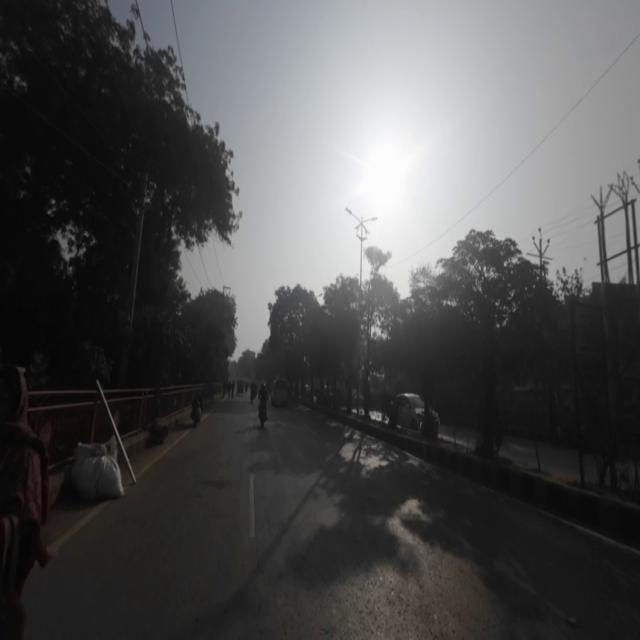Garbage: (60, 432, 124, 507)
